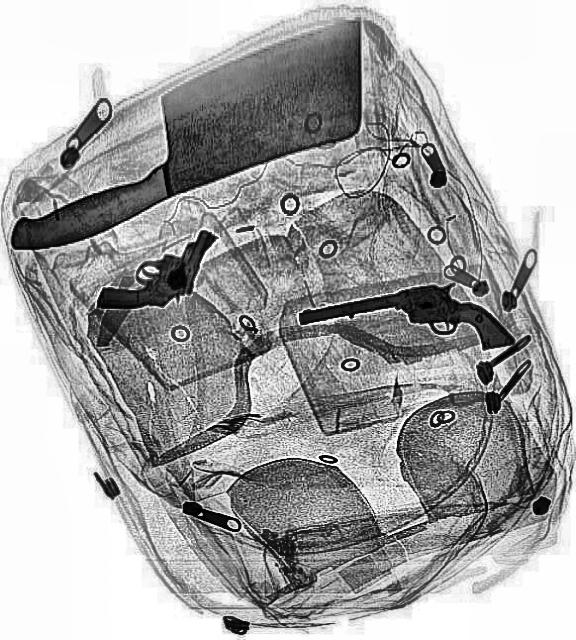Gun: (298, 268, 514, 382), (92, 200, 214, 340)
Knife: (1, 16, 394, 248)
